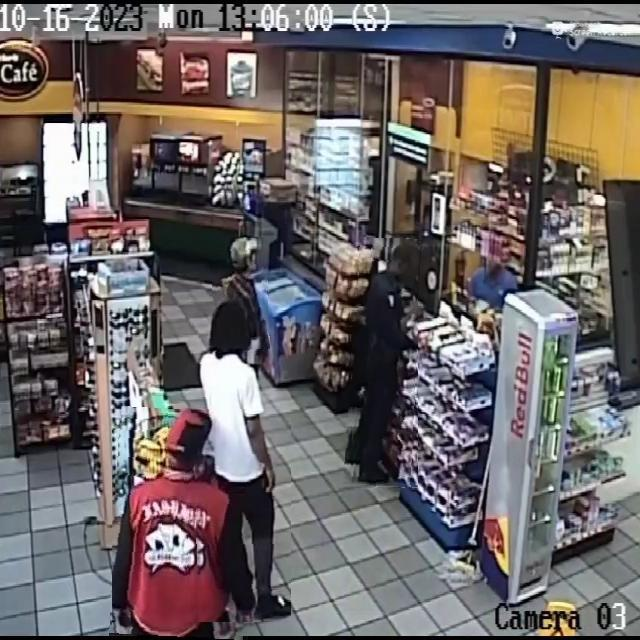Normal: (112, 407, 256, 640), (191, 296, 291, 622), (348, 238, 418, 488), (210, 237, 268, 352)
